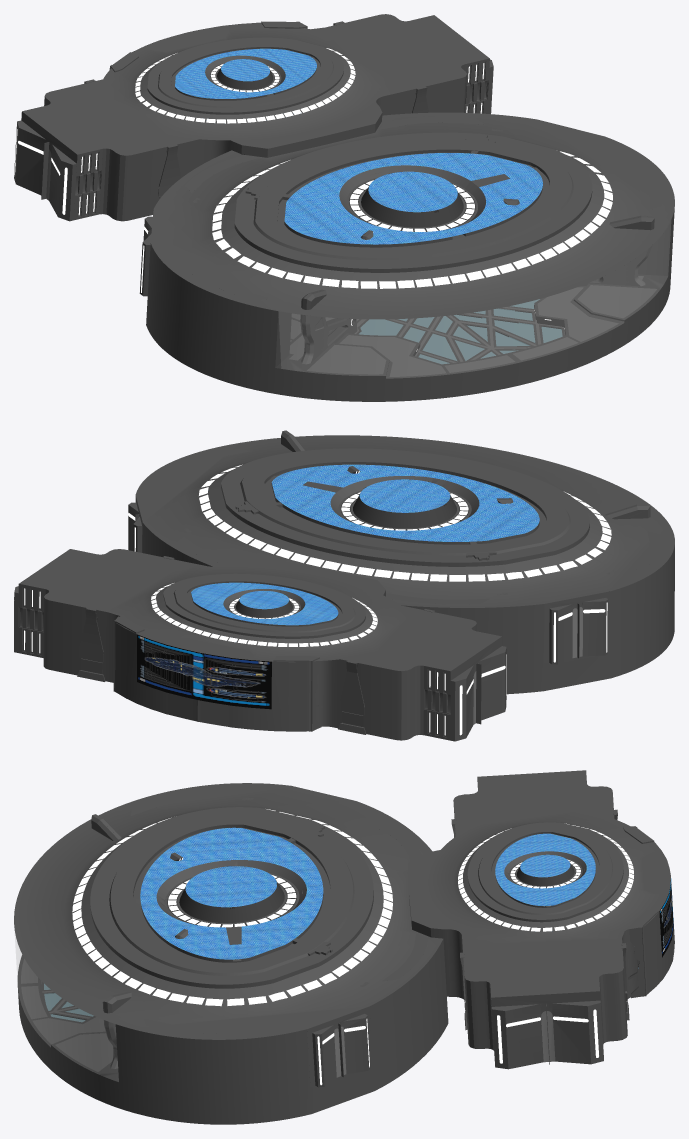
File: captains-chamber-transformed.glb
The picture shows the model from 3 angles, top to bottom: view 1: azimuth 30°, elevation 25°; view 2: azimuth 150°, elevation 25°; view 3: azimuth 270°, elevation 25°; orthographic projection. The views are drawn at different scales.
Visible parts, largest first — view 1: Object_101, Object_16, Object_249, Object_231, Object_182, Object_181, Object_74, Object_10, Object_103, Object_106, Object_105, Object_104 (+1 smaller); view 2: Object_101, Object_249, Object_231, Object_4, Object_10, Object_100, Object_15, Object_105, Object_104, Object_73, Object_106, Object_182; view 3: Object_101, Object_249, Object_231, Object_16, Object_10, Object_182, Object_100, Object_15, Object_4, Object_104, Object_106, Object_103 (+3 smaller).
Boxes of the visible parts, x1,y1,x2,y2 form: Object_101: (14,14,674,401); Object_16: (279,222,670,378); Object_249: (175,48,542,244); Object_231: (14,48,612,351); Object_182: (210,65,667,378); Object_181: (359,299,562,364); Object_74: (304,200,654,364); Object_10: (217,67,565,355); Object_103: (380,116,484,129); Object_106: (186,263,271,300); Object_105: (185,155,257,192); Object_104: (624,162,662,209); Object_101: (14,430,674,741); Object_249: (191,464,539,625); Object_231: (24,464,611,735); Object_4: (137,634,271,709); Object_10: (235,480,456,617); Object_100: (113,616,322,731); Object_15: (473,607,582,724); Object_105: (386,593,489,604); Object_104: (169,449,251,477); Object_73: (497,499,650,521); Object_106: (628,531,662,570); Object_182: (229,492,469,618); Object_101: (14,770,674,1124); Object_249: (140,827,595,959); Object_231: (72,809,633,1085); Object_16: (15,935,118,1081); Object_10: (179,835,637,976); Object_182: (17,860,581,1081); Object_100: (623,826,658,998); Object_15: (334,1011,555,1077); Object_4: (659,878,673,957); Object_104: (143,1018,247,1033); Object_106: (130,790,233,815); Object_103: (382,933,427,981).
Bounding box in the file's own units: 21.43 × 5.67 × 24.58.
Materials: 21 (11 with a texture image).
